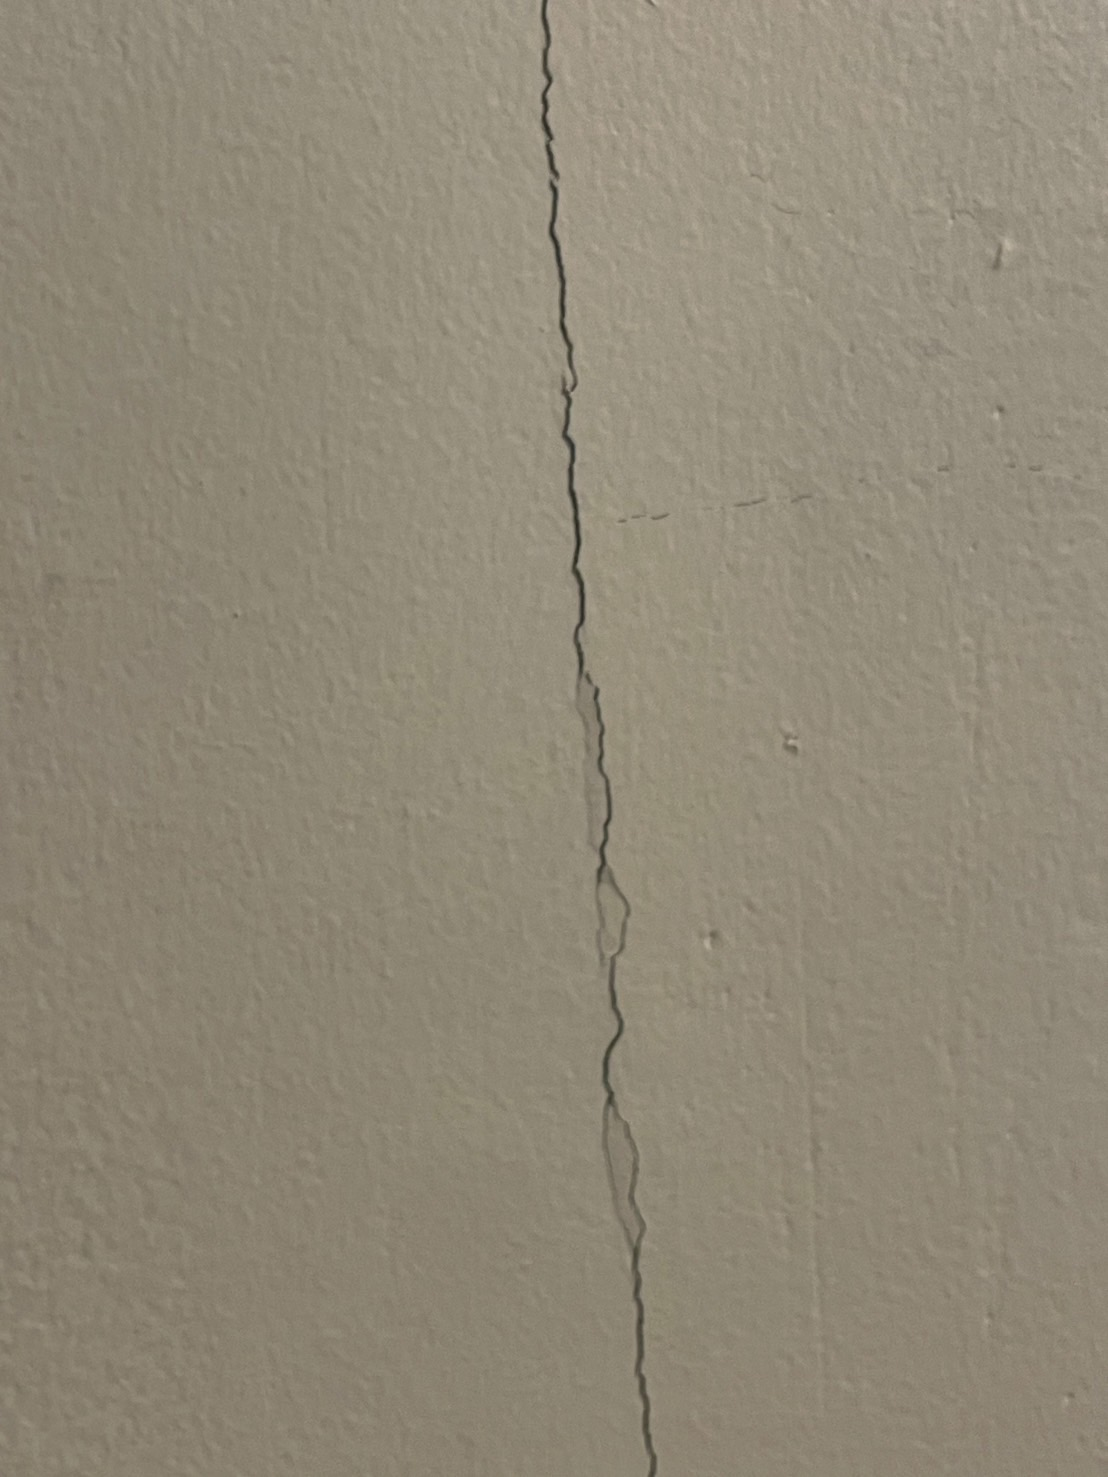Low: (503, 6, 803, 1477)
